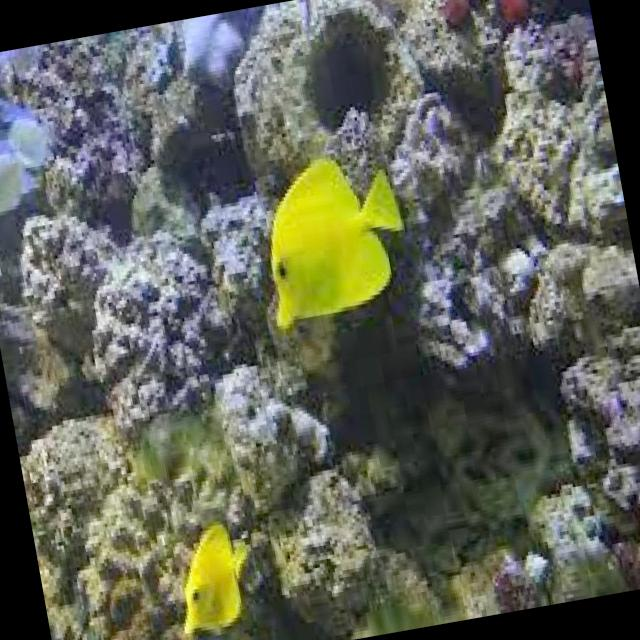TangFish: (242, 138, 419, 336), (161, 515, 264, 640)
